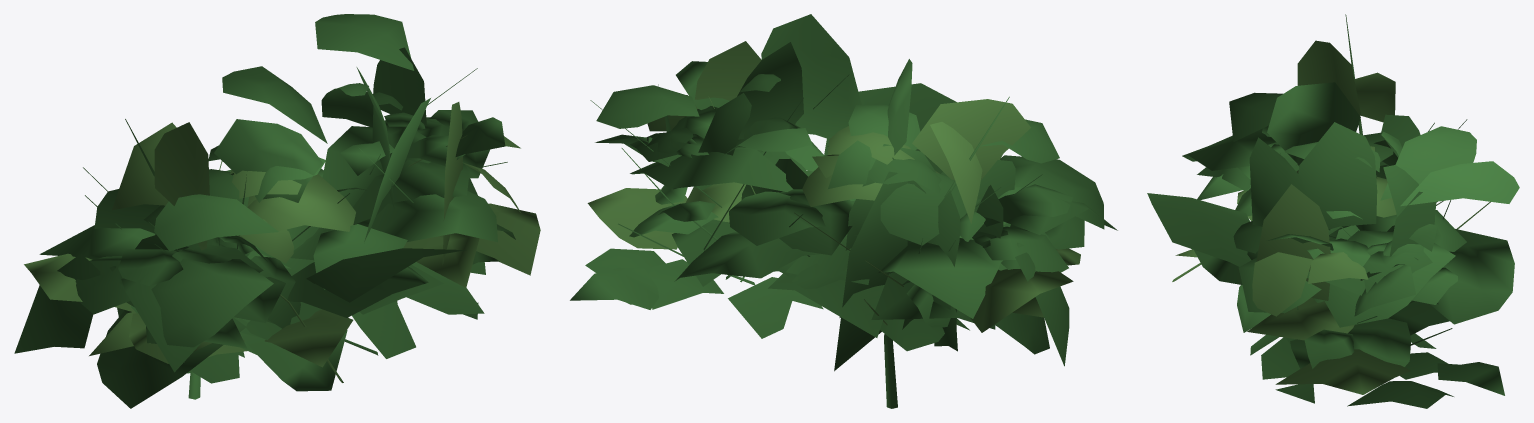
The model's file is forracao_2.glb.
3 renders of one model, left to right at view 1: azimuth 30°, elevation 25°; view 2: azimuth 150°, elevation 25°; view 3: azimuth 270°, elevation 25°, orthographic. The views are drawn at different scales.
Visible parts, largest first — view 1: forracao_2; view 2: forracao_2; view 3: forracao_2.
Boxes of the visible parts, x1,y1,x2,y2 form: forracao_2: (14, 14, 540, 408); forracao_2: (570, 14, 1117, 408); forracao_2: (1147, 14, 1519, 408).
Size of the model in its own units: 0.4739 by 0.2879 by 0.326.
